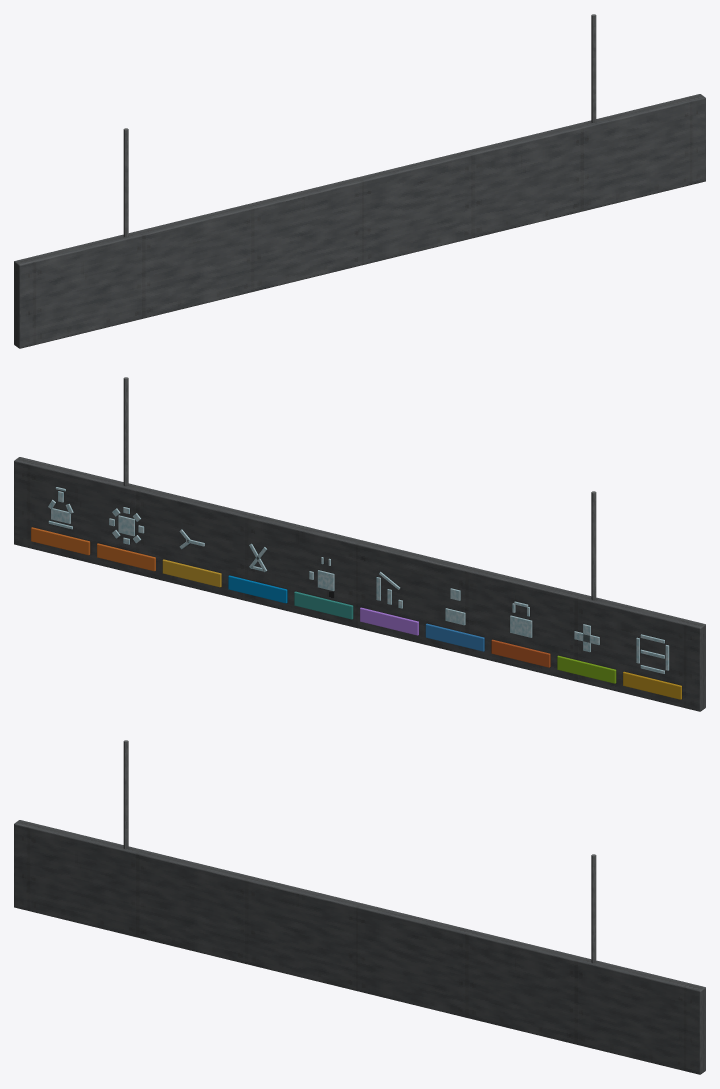
The model's file is base_hanging_directory.glb.
3 views of the same model, one above another, from view 1: azimuth 30°, elevation 25°; view 2: azimuth 150°, elevation 25°; view 3: azimuth 330°, elevation 25° (orthographic).
Parts seen in each view (by area): view 1: base_hanging_directory; view 2: base_hanging_directory; view 3: base_hanging_directory.
Part boxes in pixels (<box>): base_hanging_directory: <box>14,14,705,348</box>; base_hanging_directory: <box>14,377,705,711</box>; base_hanging_directory: <box>14,740,705,1074</box>.
Bounding box in the file's own units: 9.4 × 2.5 × 0.165.
Materials: 21 (21 with a texture image).
